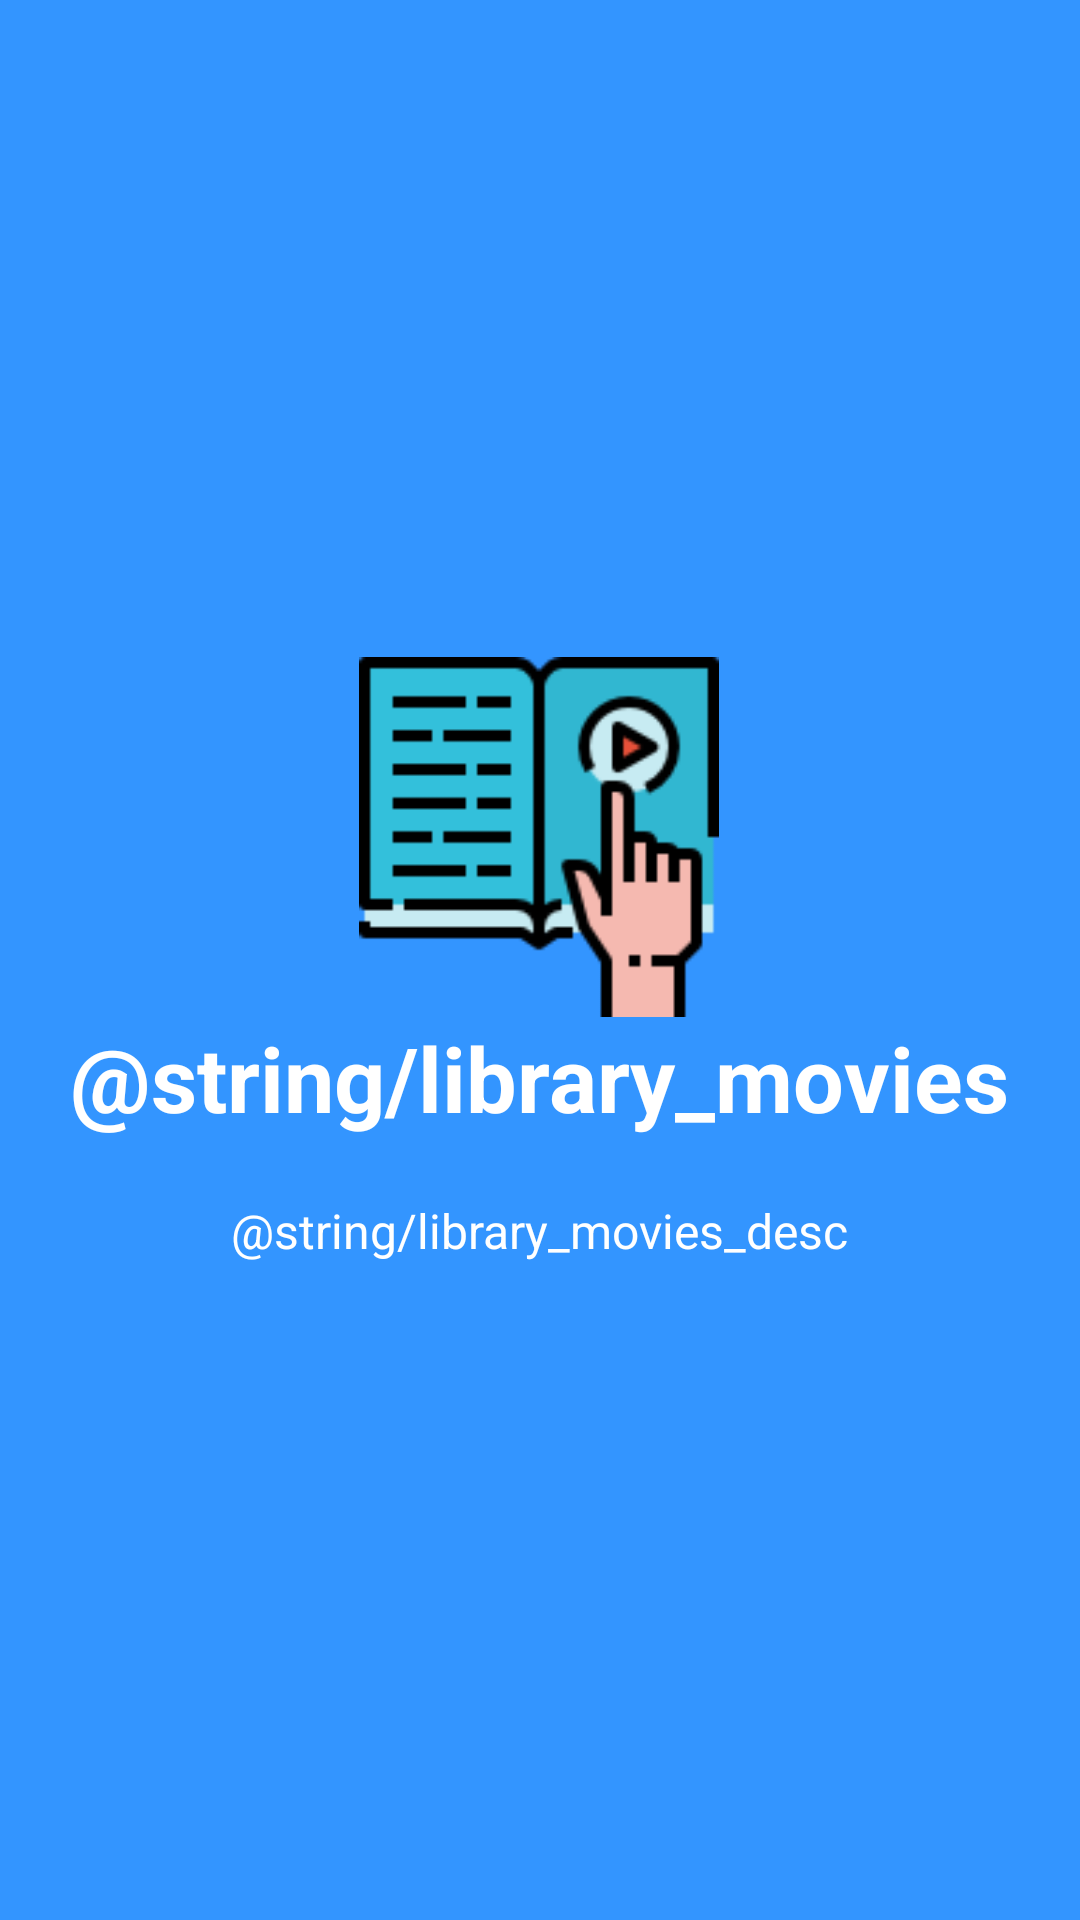

Screen size 1080×1920. Icon name, then its box in pixels as BBox(x1, y1, x2, y2):
intro library: BBox(359, 657, 719, 1017)
